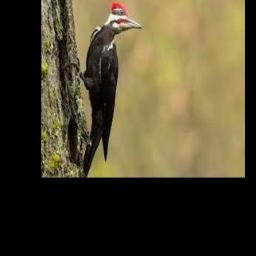Woodpecker: (68, 2, 142, 177)
